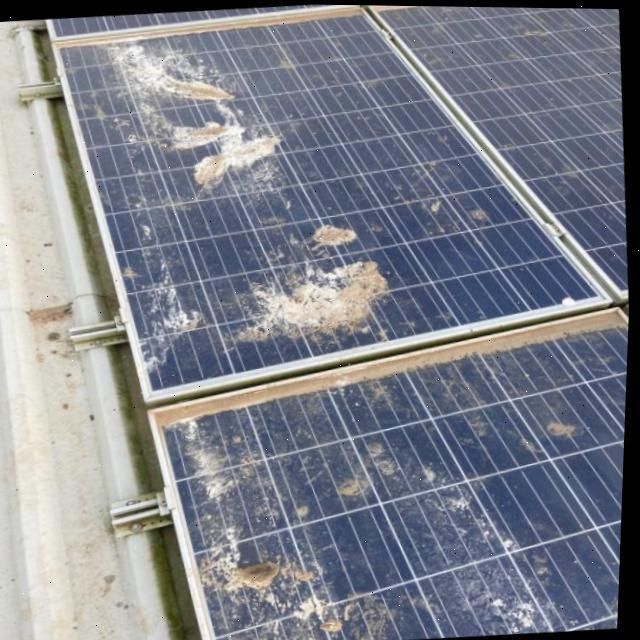Anomaly Solar Panel: (54, 5, 613, 398), (156, 305, 631, 640), (369, 4, 630, 294)
Surface Contaminant: (159, 308, 630, 428), (374, 5, 627, 219), (69, 13, 318, 224), (365, 455, 593, 634), (362, 337, 579, 467), (114, 153, 223, 371), (366, 123, 504, 266), (161, 412, 313, 539), (237, 233, 406, 344), (208, 541, 344, 640), (259, 389, 361, 485), (324, 431, 412, 505), (348, 580, 411, 640), (254, 23, 306, 72), (313, 221, 360, 247), (550, 412, 590, 440), (608, 566, 624, 626), (616, 426, 628, 456)
